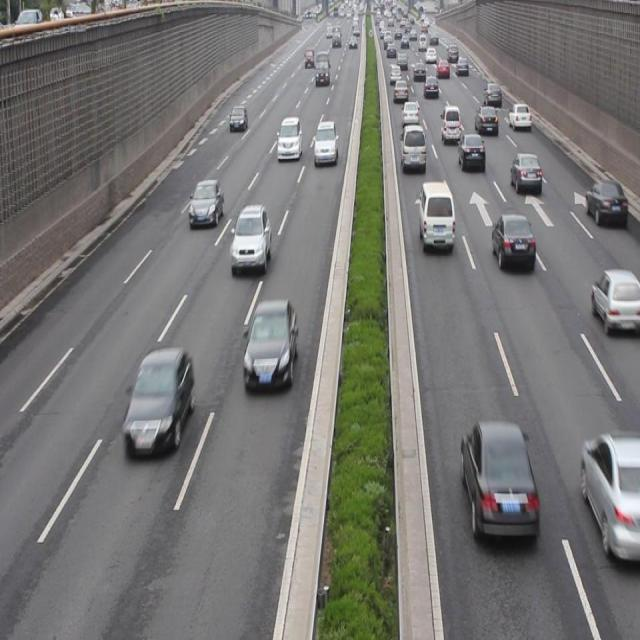car: (460, 420, 539, 538), (123, 345, 194, 456), (582, 432, 640, 562), (243, 296, 297, 390), (590, 266, 640, 336), (230, 202, 272, 271), (490, 212, 534, 272), (584, 176, 626, 226), (187, 179, 223, 229), (509, 150, 542, 196), (458, 132, 485, 174), (313, 120, 337, 166), (276, 116, 301, 160), (474, 105, 499, 137), (508, 102, 531, 131), (229, 104, 248, 131)
truck: (419, 179, 453, 252), (401, 124, 426, 174), (439, 105, 461, 144)
